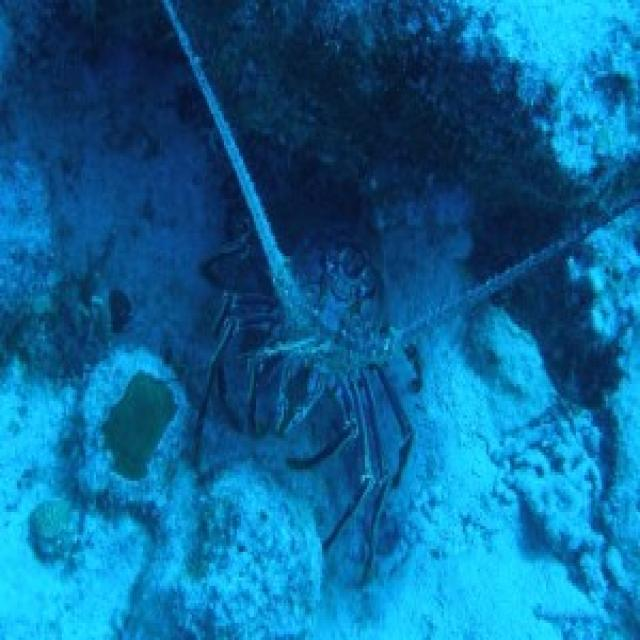lobsters: (125, 139, 545, 543)
